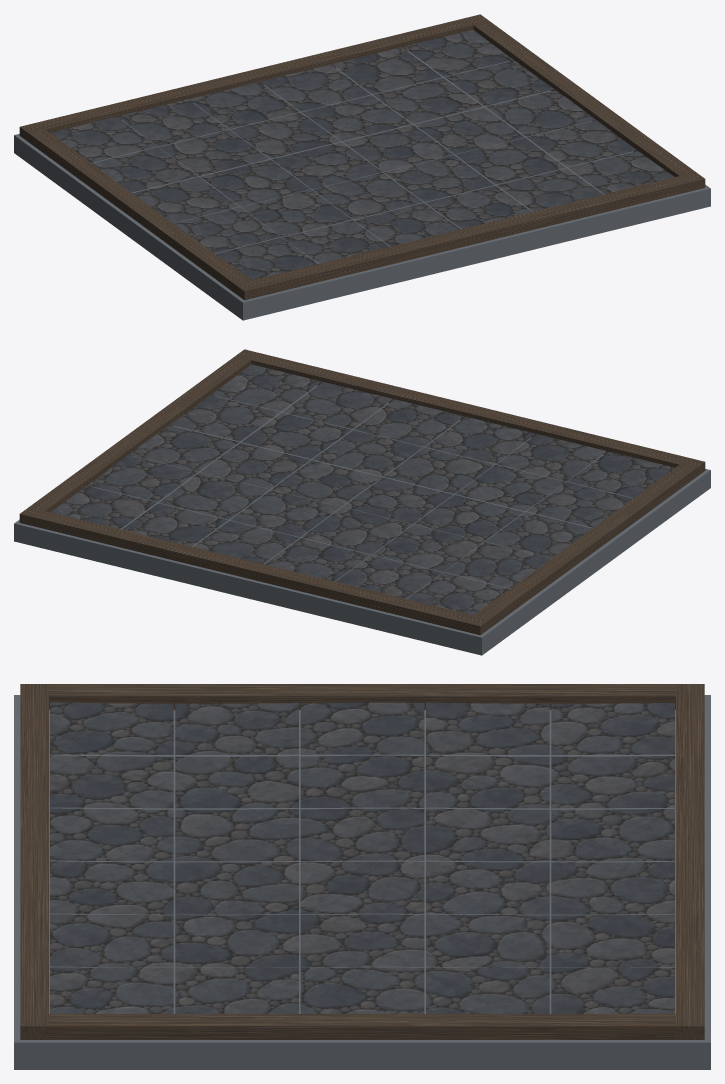
Rendered from SM_ART005_BoardStoneV4_WoodUV.fbx.
3 views of the same model, one above another, from view 1: azimuth 30°, elevation 25°; view 2: azimuth 150°, elevation 25°; view 3: azimuth 270°, elevation 25° (orthographic). The views are drawn at different scales.
Visible parts, largest first — view 1: Rock_Undertray.001, Frame_West.001, Frame_East.001, Frame_North.001, Frame_South.001, StoneTile_4_4.001, StoneTile_4_3.001, StoneTile_1_4.001, StoneTile_4_2.001, StoneTile_4_1.001, StoneTile_1_3.001, StoneTile_2_3.001 (+23 smaller); view 2: Rock_Undertray.001, Frame_East.001, Frame_West.001, Frame_North.001, Frame_South.001, StoneTile_0_4.001, StoneTile_0_3.001, StoneTile_0_2.001, StoneTile_3_4.001, StoneTile_0_1.001, StoneTile_3_2.001, StoneTile_3_3.001 (+23 smaller); view 3: Rock_Undertray.001, Frame_South.001, Frame_North.001, Frame_East.001, Frame_West.001, StoneTile_2_1.001, StoneTile_2_2.001, StoneTile_2_3.001, StoneTile_1_1.001, StoneTile_3_1.001, StoneTile_4_1.001, StoneTile_0_1.001 (+23 smaller).
Boxes of the visible parts, box(x1,y1,x2,y2) form: Rock_Undertray.001: box(14, 50, 710, 320); Frame_West.001: box(235, 172, 705, 300); Frame_East.001: box(19, 14, 489, 142); Frame_North.001: box(29, 129, 250, 292); Frame_South.001: box(473, 21, 695, 176); StoneTile_4_4.001: box(118, 99, 227, 146); StoneTile_4_3.001: box(189, 82, 299, 129); StoneTile_1_4.001: box(241, 189, 351, 236); StoneTile_4_2.001: box(261, 64, 370, 111); StoneTile_4_1.001: box(332, 47, 441, 93); StoneTile_1_3.001: box(313, 172, 422, 219); StoneTile_2_3.001: box(271, 142, 381, 189); Rock_Undertray.001: box(14, 385, 710, 655); Frame_East.001: box(19, 507, 489, 635); Frame_West.001: box(235, 349, 705, 477); Frame_North.001: box(474, 464, 695, 627); Frame_South.001: box(29, 356, 251, 511); StoneTile_0_4.001: box(496, 434, 606, 481); StoneTile_0_3.001: box(425, 416, 535, 464); StoneTile_0_2.001: box(354, 399, 463, 446); StoneTile_3_4.001: box(373, 524, 483, 571); StoneTile_0_1.001: box(283, 382, 392, 428); StoneTile_3_2.001: box(230, 490, 340, 536); StoneTile_3_3.001: box(302, 507, 411, 554); Rock_Undertray.001: box(14, 695, 710, 1069); Frame_South.001: box(49, 1014, 675, 1039); Frame_North.001: box(49, 684, 675, 709); Frame_East.001: box(676, 684, 704, 1039); Frame_West.001: box(20, 684, 48, 1039); StoneTile_2_1.001: box(300, 914, 424, 967); StoneTile_2_2.001: box(300, 861, 424, 914); StoneTile_2_3.001: box(300, 808, 424, 861); StoneTile_1_1.001: box(175, 914, 298, 967); StoneTile_3_1.001: box(426, 914, 549, 967); StoneTile_4_1.001: box(551, 914, 674, 967); StoneTile_0_1.001: box(50, 914, 173, 967).
Size of the model in its own units: 656 by 556 by 36.
